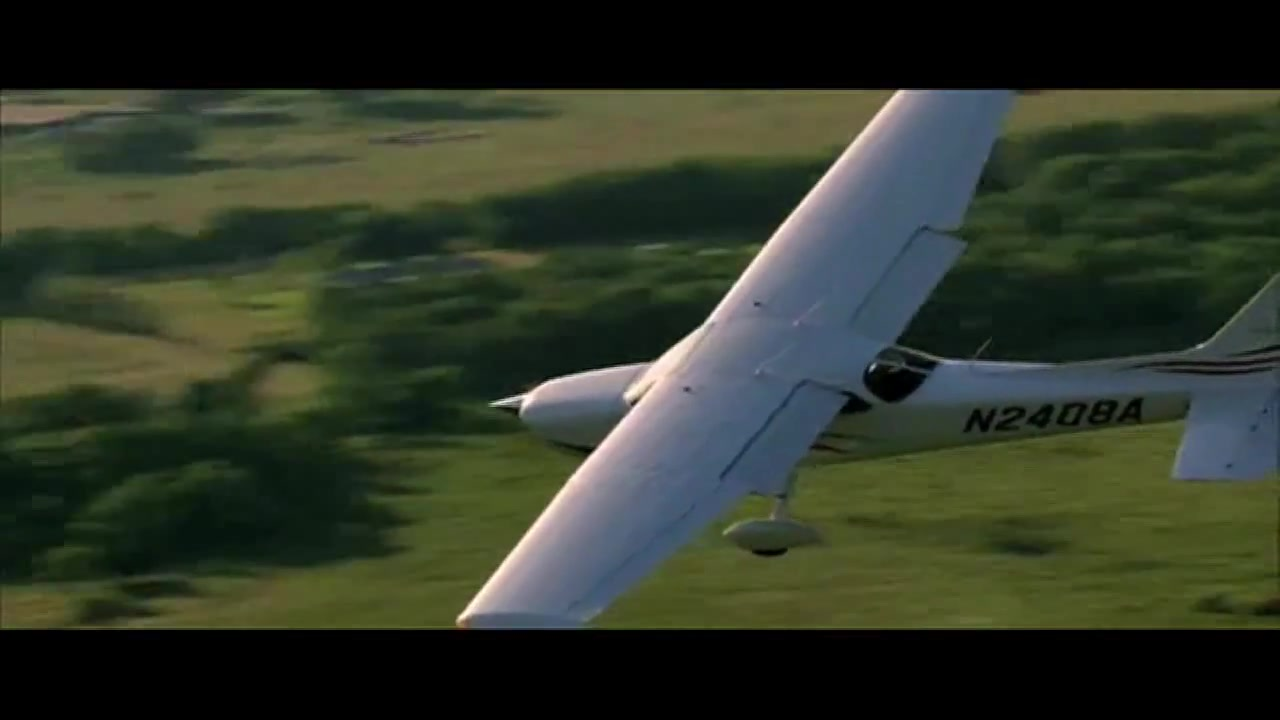aeroplane: (455, 94, 1280, 628)
